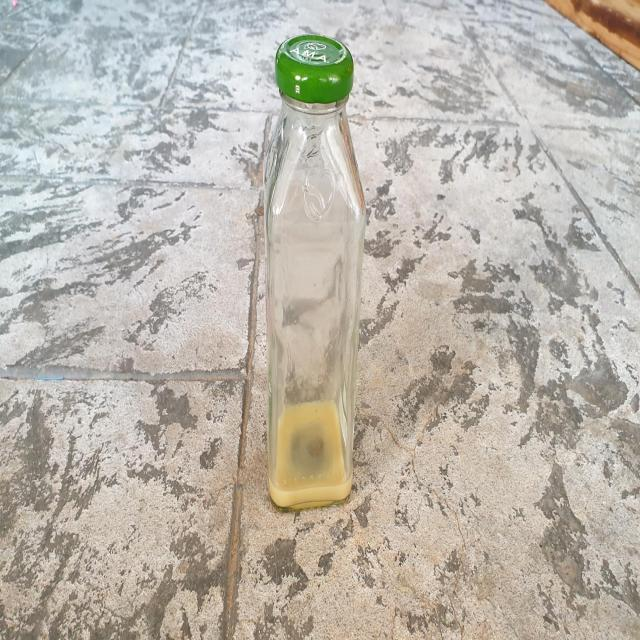glass: (264, 33, 366, 509)
